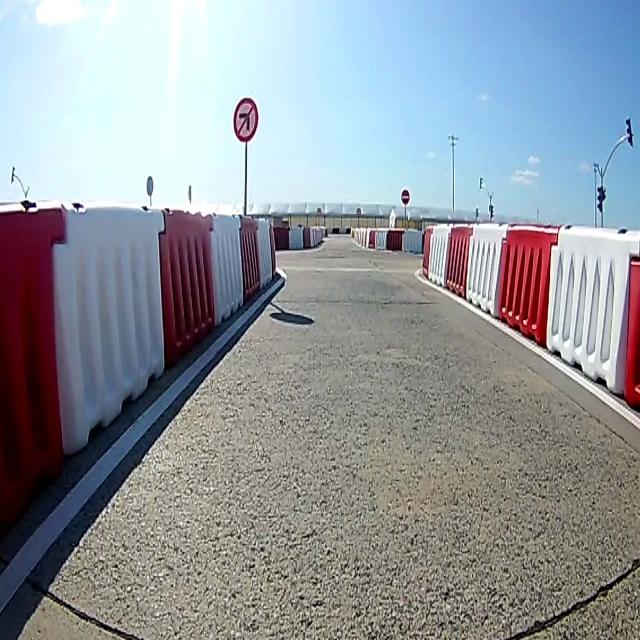girisyok: (401, 190, 409, 206)
soladonulmez: (233, 97, 259, 142)
